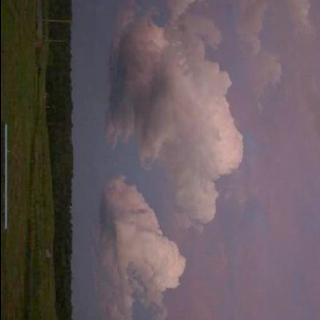Altostratus: (68, 0, 320, 320)
